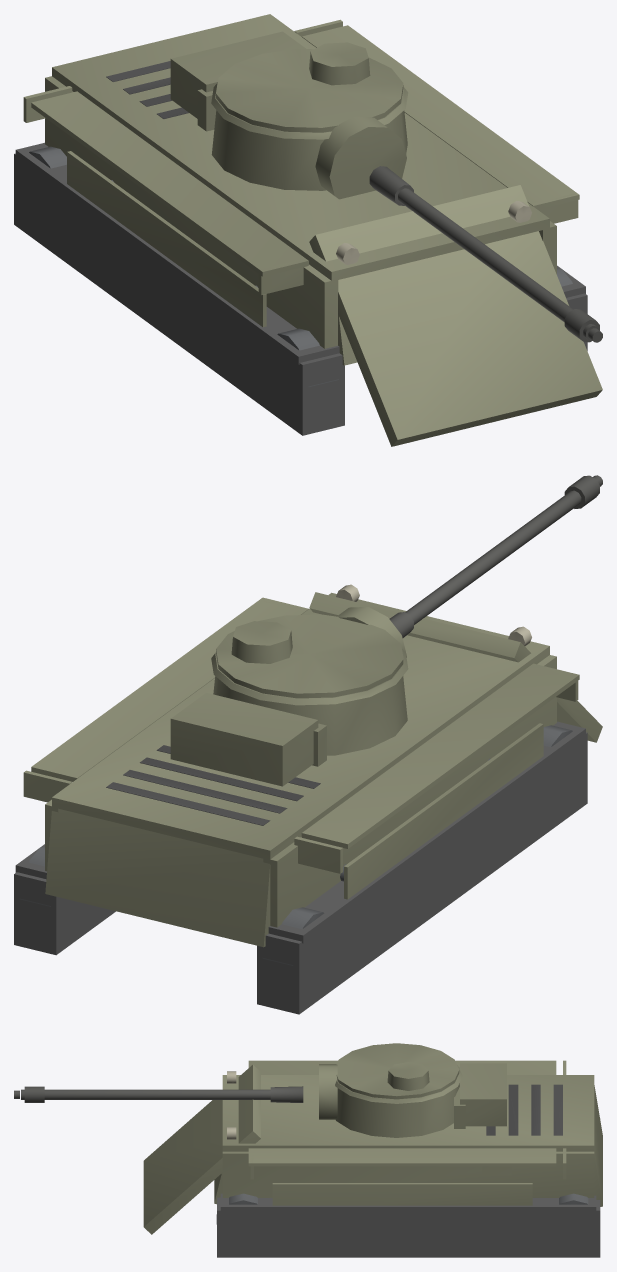
The picture shows the model from 3 angles, top to bottom: view 1: azimuth 30°, elevation 25°; view 2: azimuth 150°, elevation 25°; view 3: azimuth 270°, elevation 25°; orthographic projection. The views are drawn at different scales.
Parts seen in each view (by area): view 1: glacis, hullSide, hullTop, tracks, turretRoof, turretFront, barrel, mantlet, turretSide, turretRear, wheel6; view 2: hullSide, tracks, hullTop, hullRear, turretFront, turretRoof, barrel, glacis, turretSide, mantlet; view 3: hullSide, tracks, hullTop, glacis, turretFront, turretRoof, barrel, mantlet, hullRear, turretSide, turretRear, wheel14.
Part boxes in pixels (x1,y1,x2,y2): glacis: [309, 185, 602, 446]; hullSide: [23, 19, 579, 348]; hullTop: [52, 14, 549, 280]; tracks: [14, 142, 587, 435]; turretRoof: [216, 42, 403, 132]; turretFront: [170, 31, 407, 190]; barrel: [369, 166, 602, 342]; mantlet: [315, 116, 406, 199]; turretSide: [211, 83, 408, 139]; turretRear: [197, 89, 216, 131]; wheel6: [277, 328, 338, 387]; hullSide: [23, 584, 579, 927]; tracks: [14, 721, 587, 1014]; hullTop: [52, 592, 549, 860]; hullRear: [45, 809, 271, 947]; turretFront: [170, 676, 407, 786]; turretRoof: [216, 614, 403, 698]; barrel: [389, 475, 602, 638]; glacis: [309, 592, 602, 742]; turretSide: [211, 648, 408, 705]; mantlet: [337, 607, 406, 657]; hullSide: [222, 1060, 594, 1205]; tracks: [217, 1118, 600, 1257]; hullTop: [222, 1075, 594, 1151]; glacis: [143, 1065, 260, 1234]; turretFront: [335, 1063, 506, 1137]; turretRoof: [336, 1043, 459, 1099]; barrel: [14, 1086, 303, 1102]; mantlet: [319, 1064, 337, 1119]; hullRear: [591, 1085, 602, 1206]; turretSide: [335, 1065, 462, 1103]; turretRear: [454, 1067, 465, 1128]; wheel14: [216, 1193, 257, 1224].
Bounding box in the file's own units: 4.12 × 2.87 × 9.99.
